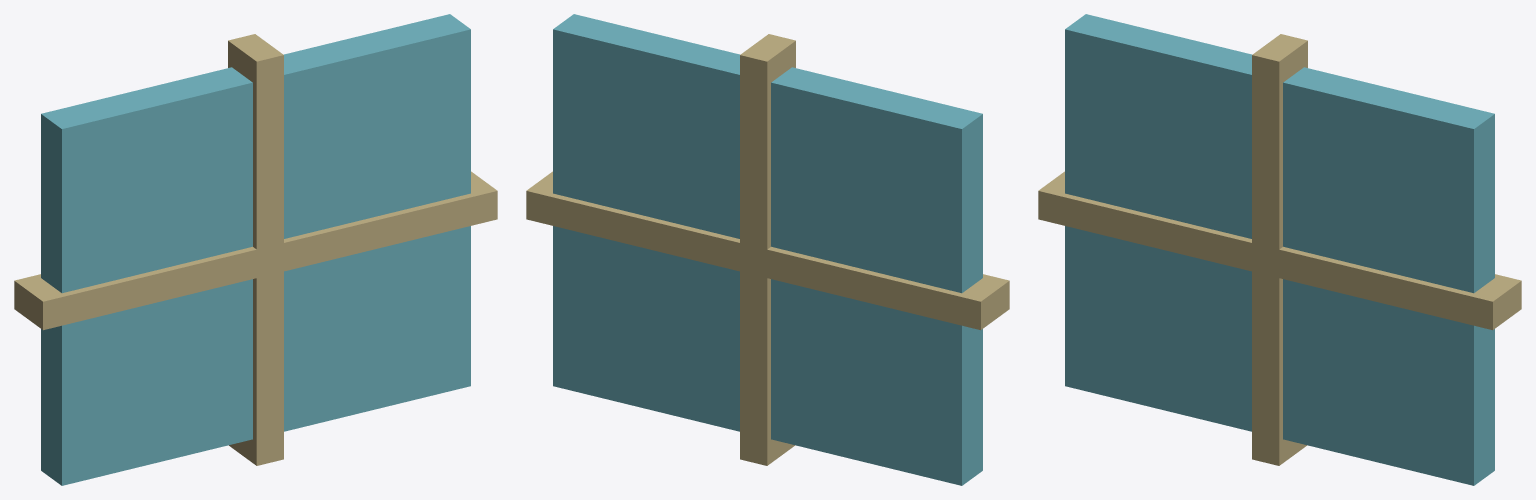
Rendered from window_frame.glb.
3 renders of one model, left to right at view 1: azimuth 30°, elevation 25°; view 2: azimuth 150°, elevation 25°; view 3: azimuth 330°, elevation 25°, orthographic.
Parts seen in each view (by area): view 1: window, frame_h, frame_v; view 2: window, frame_h, frame_v; view 3: window, frame_h, frame_v.
Boxes of the visible parts, x1,y1,x2,y2 form: window: (41,14,470,485); frame_h: (14,171,497,330); frame_v: (228,34,283,465); window: (553,14,982,485); frame_h: (526,171,1009,330); frame_v: (740,34,795,465); window: (1065,14,1494,485); frame_h: (1038,171,1521,330); frame_v: (1252,34,1307,465).
Size of what is drawn, in the model's own units: 2 by 1.7 by 0.22.
